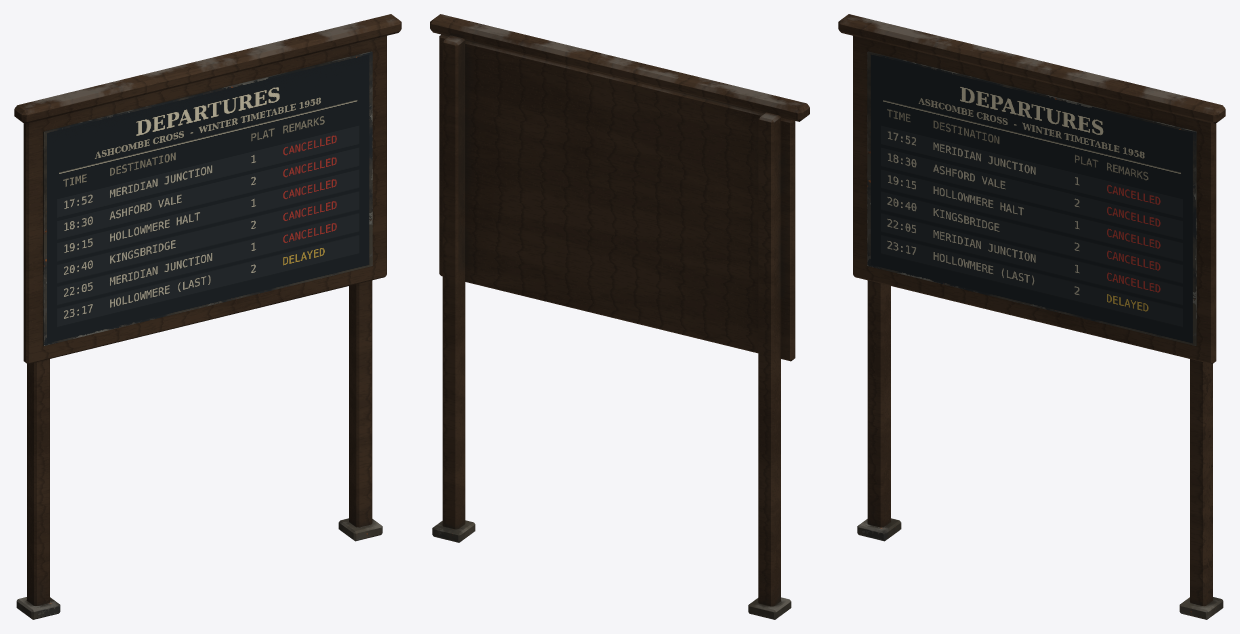
File: DeparturesBoard.fbx
The picture shows the model from 3 angles, left to right: view 1: azimuth 30°, elevation 25°; view 2: azimuth 150°, elevation 25°; view 3: azimuth 330°, elevation 25°; orthographic projection. The views are drawn at different scales.
Parts seen in each view (by area): view 1: DeparturesBoard; view 2: DeparturesBoard; view 3: DeparturesBoard.
Boxes of the visible parts, left/top/right/bottom form: DeparturesBoard: left=14, top=14, right=401, bottom=619; DeparturesBoard: left=430, top=14, right=809, bottom=619; DeparturesBoard: left=838, top=14, right=1225, bottom=619.
Bounding box in the file's own units: 7.08 × 9.18 × 0.72.
Materials: 1 (1 with a texture image).
